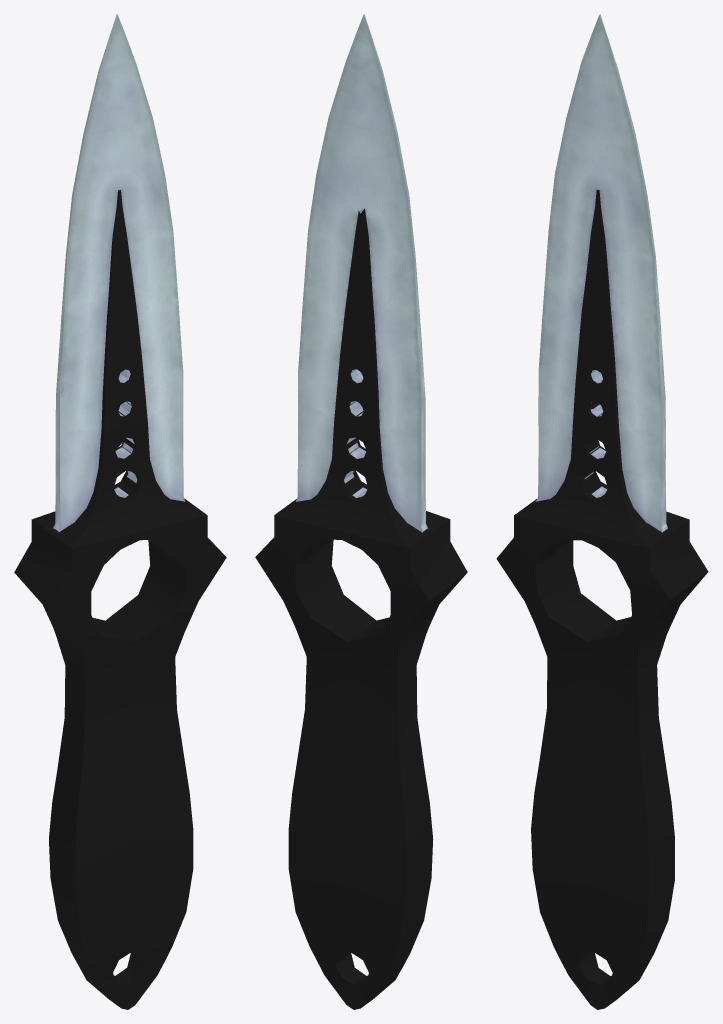
Rendered from skeleton.glb.
3 renders of one model, left to right at view 1: azimuth 30°, elevation 25°; view 2: azimuth 150°, elevation 25°; view 3: azimuth 330°, elevation 25°, orthographic.
Parts seen in each view (by area): view 1: pCube11, pCube15; view 2: pCube11, pCube15; view 3: pCube11, pCube15.
Boxes of the visible parts, x1,y1,x2,y2 form: pCube11: (14, 190, 226, 1009); pCube15: (53, 14, 185, 532); pCube11: (255, 208, 467, 1009); pCube15: (295, 14, 428, 532); pCube11: (496, 189, 708, 1009); pCube15: (536, 14, 667, 532).
Bounding box in the file's own units: 0.0308 × 0.1677 × 0.0122.
2 materials, 2 textured.
